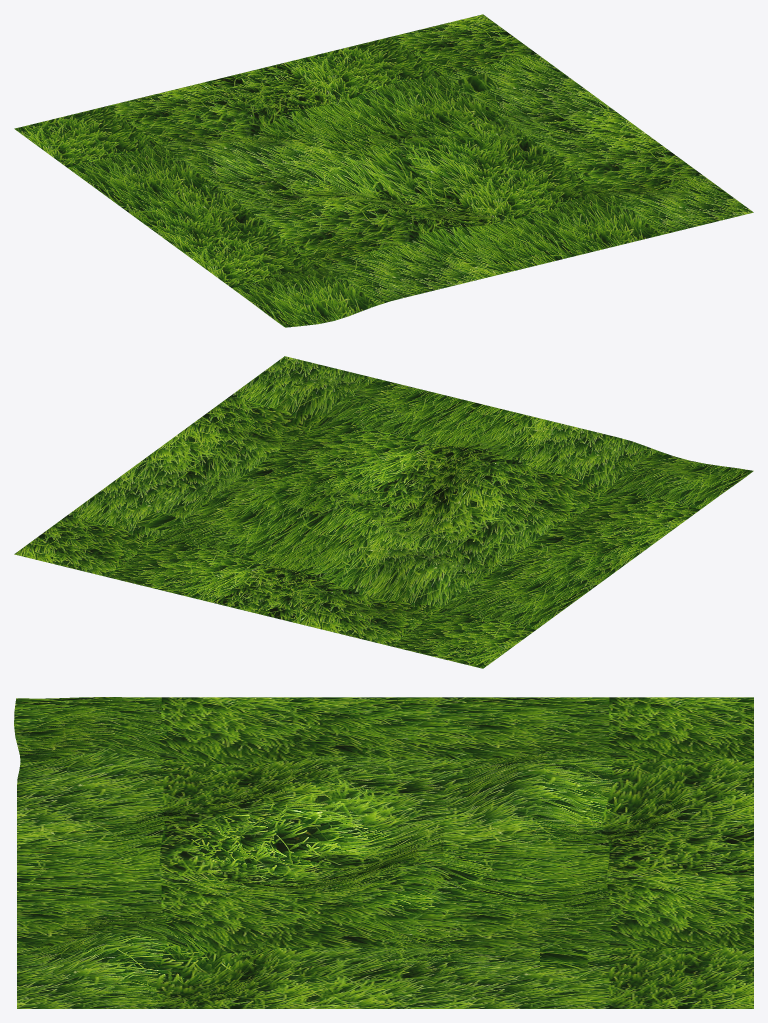
File: grass.fbx
3 renders of one model, top to bottom at view 1: azimuth 30°, elevation 25°; view 2: azimuth 150°, elevation 25°; view 3: azimuth 270°, elevation 25°, orthographic. The views are drawn at different scales.
Parts seen in each view (by area): view 1: Plane; view 2: Plane; view 3: Plane.
Boxes of the visible parts, <box> form: Plane: <box>14,14,753,327</box>; Plane: <box>14,356,753,668</box>; Plane: <box>14,697,753,1008</box>.
Size of the model in its own units: 1127 by 56.44 by 1131.
Materials: 1 (1 with a texture image).
